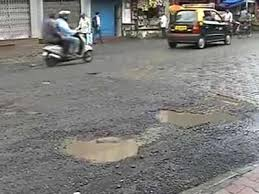pothole: (50, 126, 175, 182), (150, 102, 231, 144)
